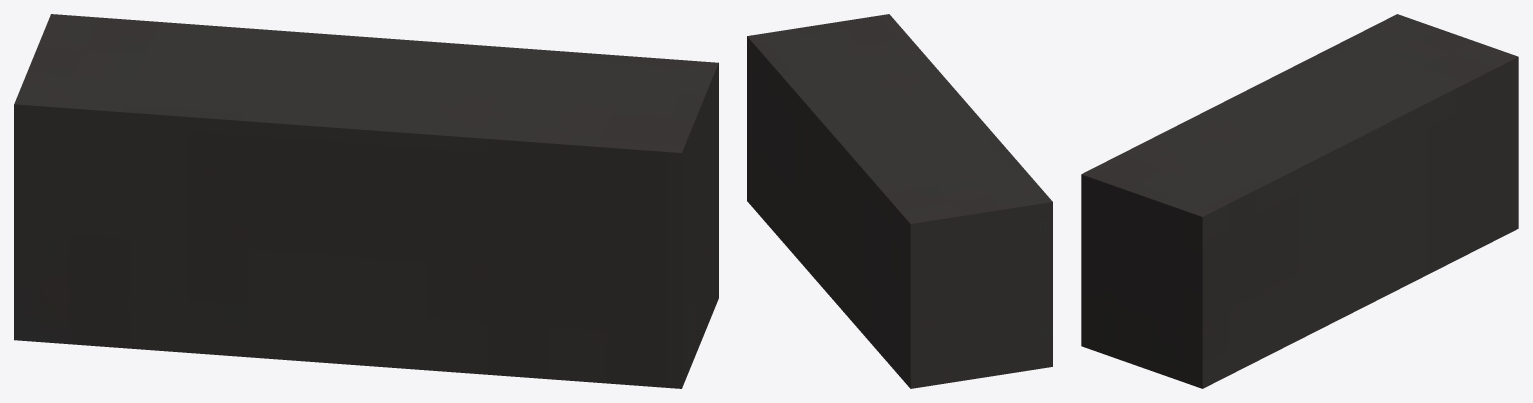
Rendered from frame__rear_rake_leg.glb.
3 renders of one model, left to right at view 1: azimuth 30°, elevation 25°; view 2: azimuth 150°, elevation 25°; view 3: azimuth 270°, elevation 25°, orthographic. The views are drawn at different scales.
Visible parts, largest first — view 1: world; view 2: world; view 3: world.
Part boxes in pixels (bbox=[...]): world: bbox=[14, 14, 718, 388]; world: bbox=[747, 14, 1052, 388]; world: bbox=[1081, 14, 1518, 388].
Bounding box in the file's own units: 0.152 × 0.06 × 0.1384.
Materials: 1 (1 with a texture image).
